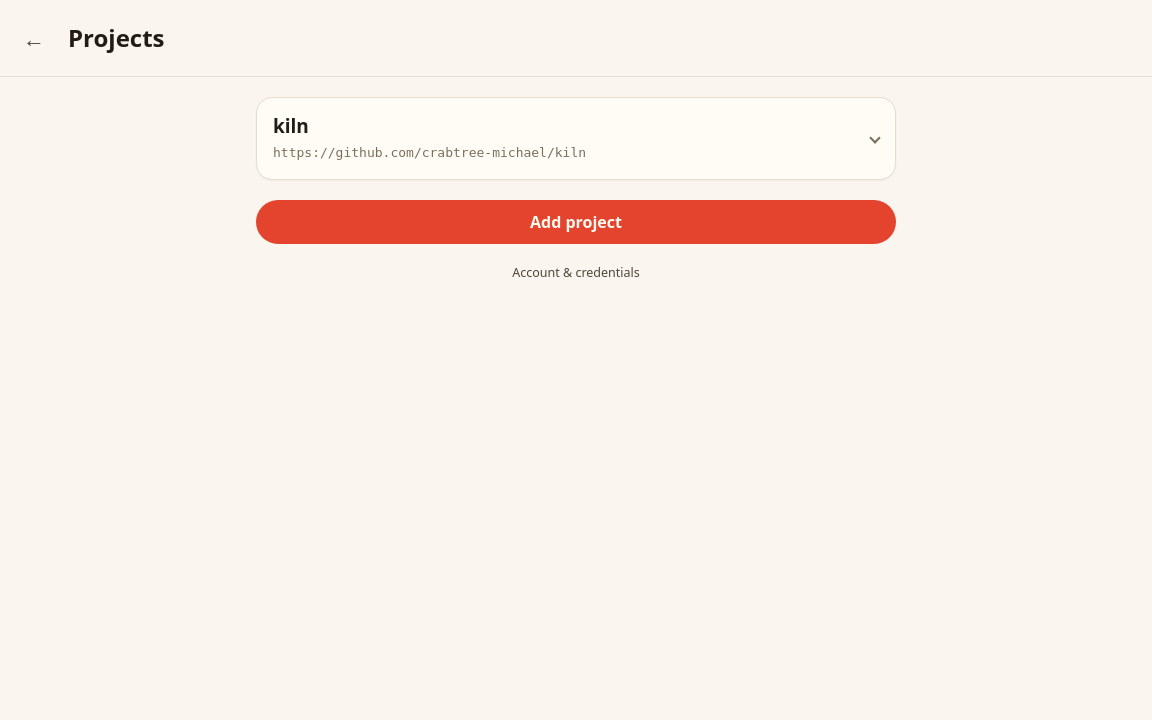
it: ProjectsManager › expanding a row reveals its edit form and a delete control
Click the button "kiln https://github.com/crabtree-michael/kiln": (291, 126) [257,98,895,179]
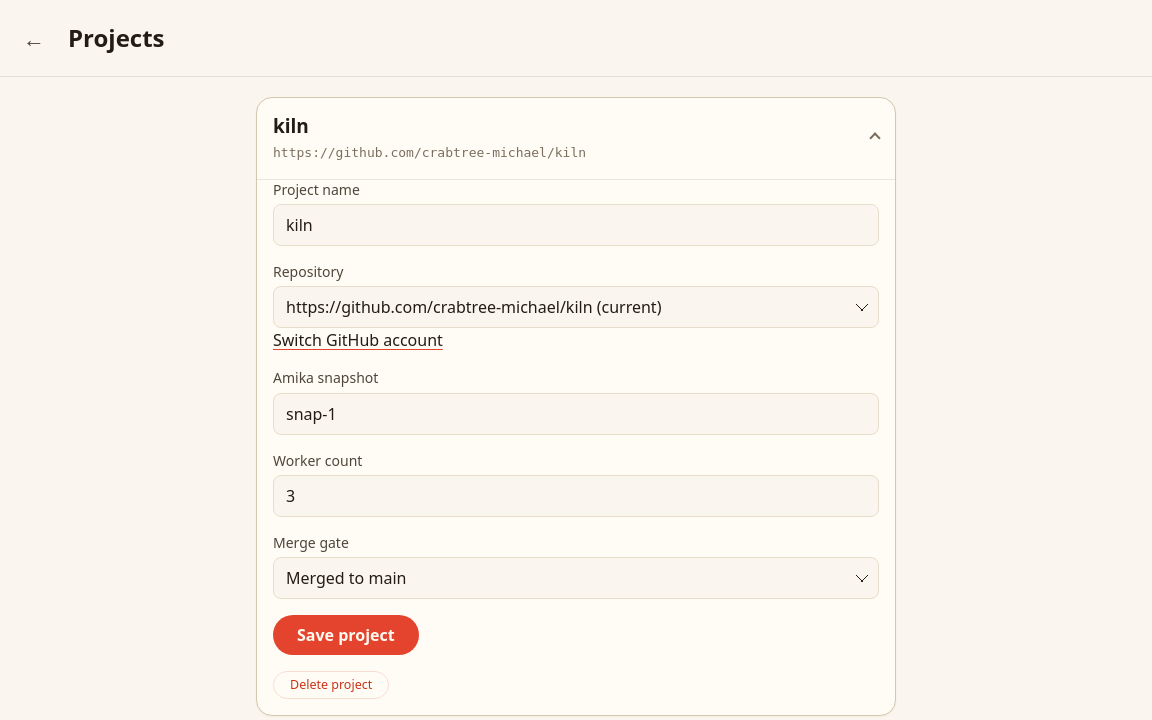
Expected: the form is shown, [273,180,879,655]
Expected: the button "Delete project" is shown, [273,671,389,699]
